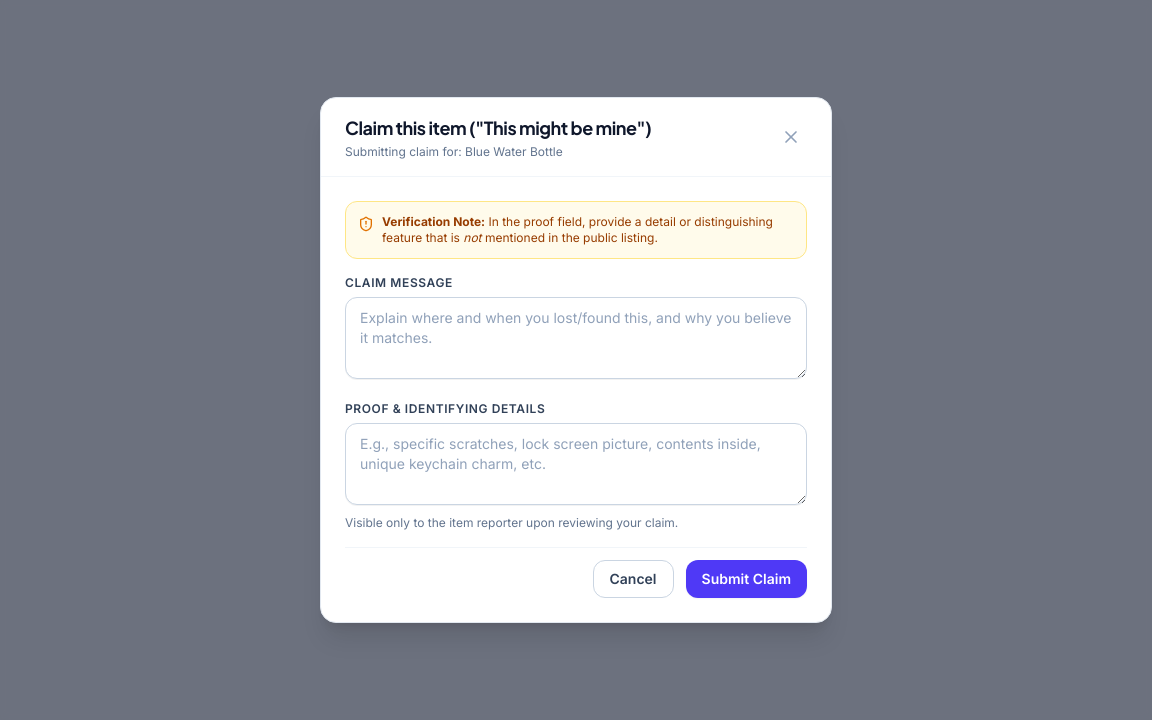
Test: ClaimModal Component › validates minimum 10 characters for message and proof fields
The width and height of the screenshot is (1152, 720).
Step 1. Click the button "Submit Claim" → (746, 579), box [686,560,807,598]
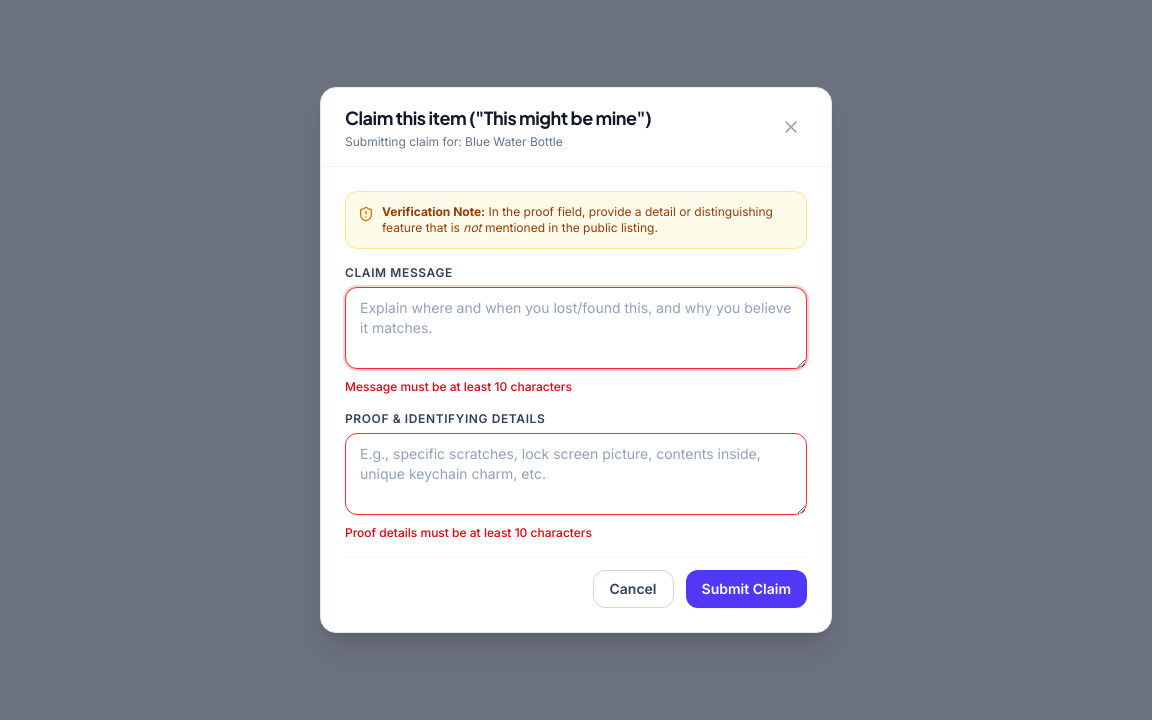
Check: the text "Message must be at least 10 characters" is shown, box [345,379,572,394]
Check: the text "Proof details must be at least 10 characters" is shown, box [345,525,592,540]
